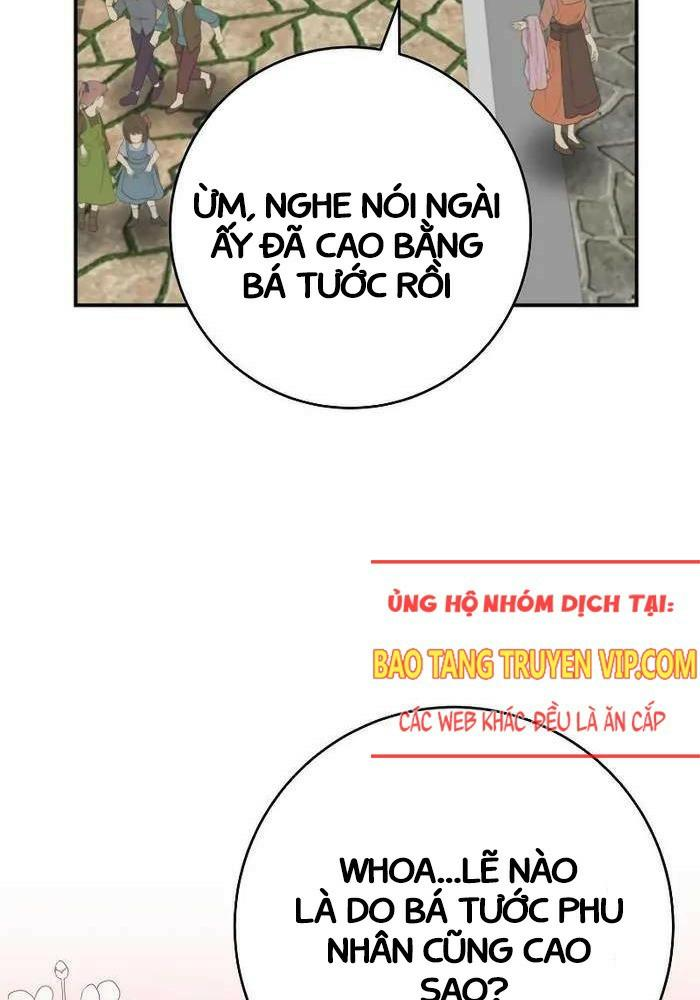quangcao: (368, 555, 700, 760)
